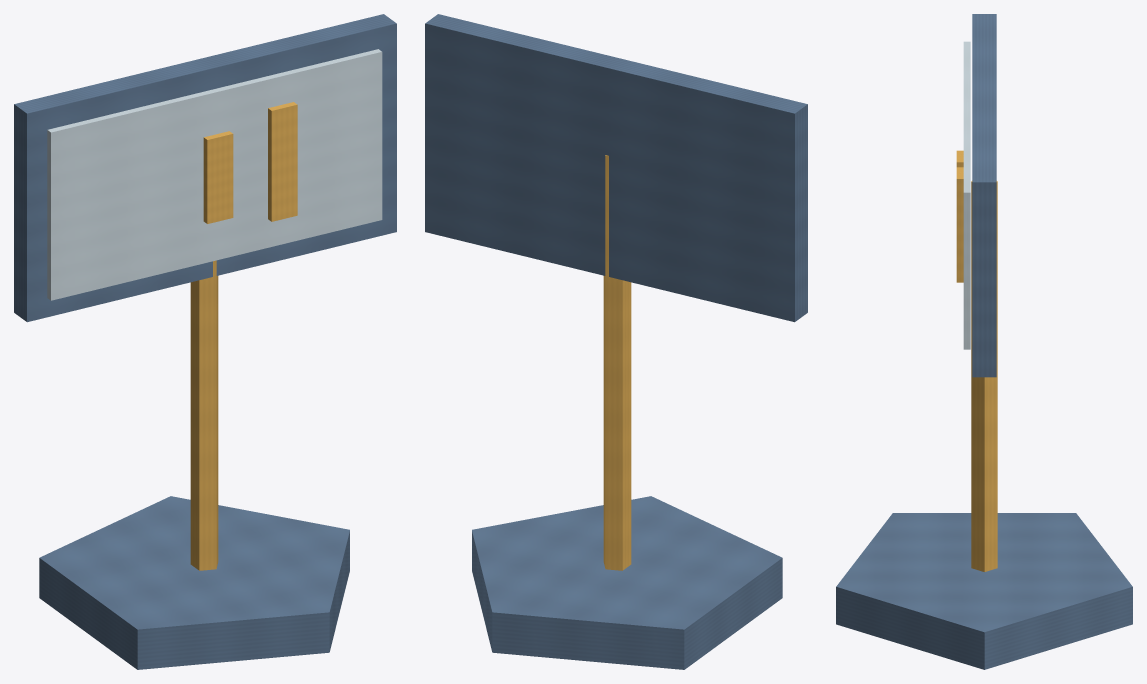
File: atlas100-s051-a11.lod1.glb
3 renders of one model, left to right at view 1: azimuth 30°, elevation 25°; view 2: azimuth 150°, elevation 25°; view 3: azimuth 270°, elevation 25°, orthographic. The views are drawn at different scales.
Visible parts, largest first — view 1: atlas100-s051-a11:part-003, atlas100-s051-a11:part-000, atlas100-s051-a11:part-002, atlas100-s051-a11:part-001, atlas100-s051-a11:part-006, atlas100-s051-a11:part-005; view 2: atlas100-s051-a11:part-002, atlas100-s051-a11:part-000, atlas100-s051-a11:part-001; view 3: atlas100-s051-a11:part-000, atlas100-s051-a11:part-002, atlas100-s051-a11:part-001, atlas100-s051-a11:part-003, atlas100-s051-a11:part-006.
Boxes of the visible parts, <box> form: atlas100-s051-a11:part-003: <box>47,49,382,300</box>; atlas100-s051-a11:part-000: <box>39,496,349,669</box>; atlas100-s051-a11:part-002: <box>14,14,396,322</box>; atlas100-s051-a11:part-001: <box>190,260,218,570</box>; atlas100-s051-a11:part-006: <box>268,102,297,221</box>; atlas100-s051-a11:part-005: <box>203,131,233,223</box>; atlas100-s051-a11:part-002: <box>425,14,807,322</box>; atlas100-s051-a11:part-000: <box>472,496,782,669</box>; atlas100-s051-a11:part-001: <box>603,155,631,570</box>; atlas100-s051-a11:part-000: <box>836,513,1132,669</box>; atlas100-s051-a11:part-002: <box>972,14,996,377</box>; atlas100-s051-a11:part-001: <box>971,181,997,571</box>; atlas100-s051-a11:part-003: <box>963,41,970,349</box>; atlas100-s051-a11:part-006: <box>956,167,963,282</box>.
Size of the model in its own units: 1.15 by 1.61 by 0.856.
Materials: 3 (3 with a texture image).
